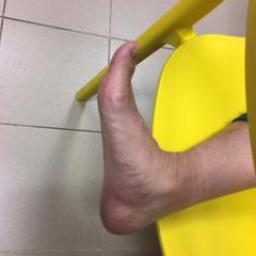Medial View -Right Foot-: (72, 14, 216, 249)
